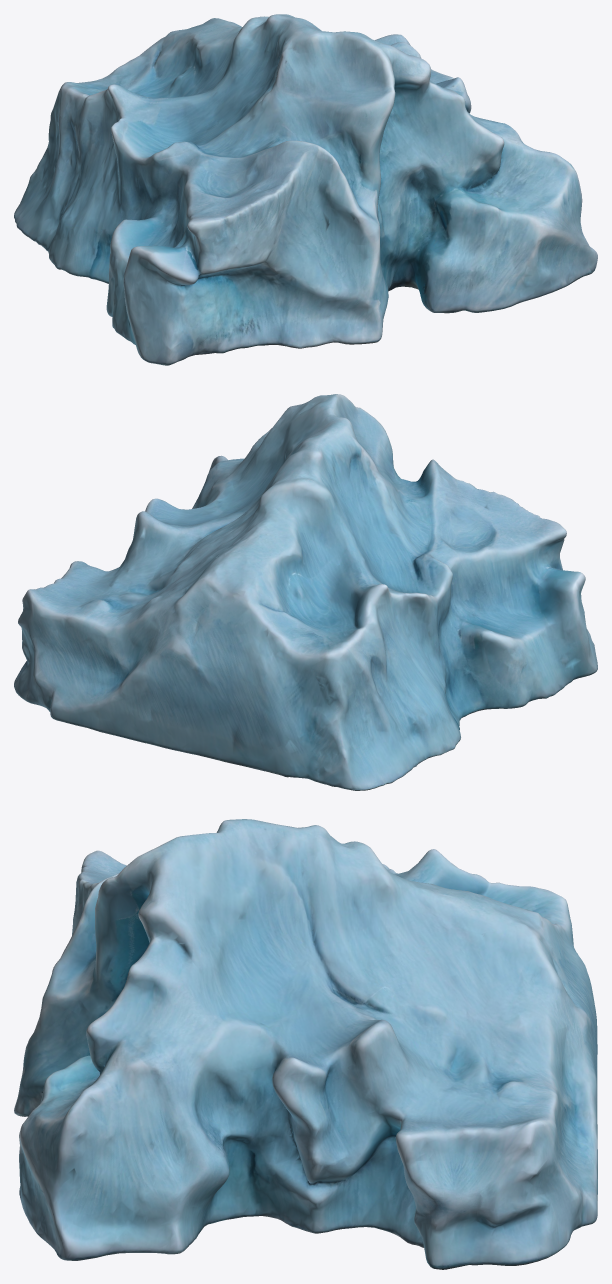
File: ice_block.glb
3 renders of one model, top to bottom at view 1: azimuth 30°, elevation 25°; view 2: azimuth 150°, elevation 25°; view 3: azimuth 270°, elevation 25°, orthographic. The views are drawn at different scales.
Visible parts, largest first — view 1: ice_block; view 2: ice_block; view 3: ice_block.
Boxes of the visible parts, bbox=[...] form: ice_block: bbox=[14, 14, 597, 365]; ice_block: bbox=[14, 394, 597, 790]; ice_block: bbox=[14, 819, 597, 1269].
Bounding box in the file's own units: 1.99 × 1.06 × 1.79.
1 material, 1 textured.
